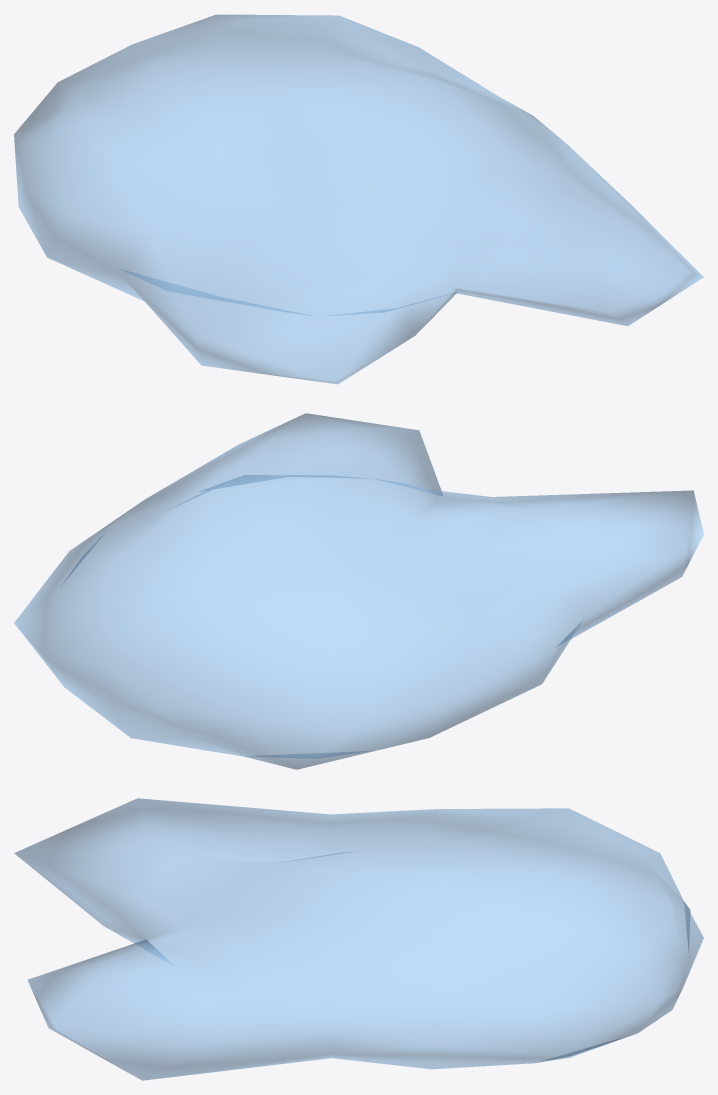
Rendered from ssforger_shield.gltf.
The picture shows the model from 3 angles, top to bottom: view 1: azimuth 30°, elevation 25°; view 2: azimuth 150°, elevation 25°; view 3: azimuth 270°, elevation 25°; orthographic projection. The views are drawn at different scales.
Parts seen in each view (by area): view 1: ssforger.shield; view 2: ssforger.shield; view 3: ssforger.shield.
Boxes of the visible parts, bbox=[...] form: ssforger.shield: bbox=[14, 14, 703, 384]; ssforger.shield: bbox=[14, 413, 703, 769]; ssforger.shield: bbox=[14, 798, 703, 1080].
Size of the model in its own units: 10.06 by 3.98 by 12.92.
